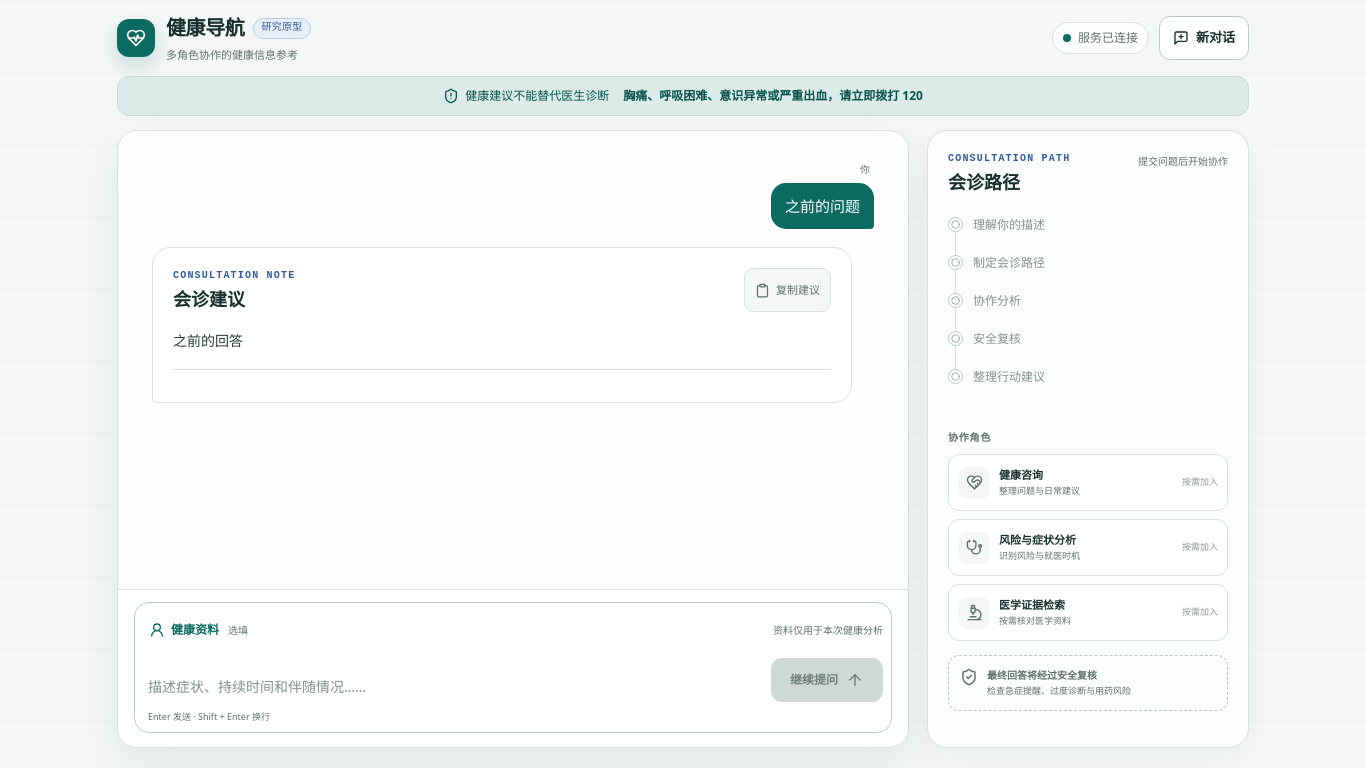
Test case: health consultation entry › starts a new conversation and offers an immediate return
Expected: the text "之前的问题" is shown, [771, 182, 874, 229]
What coordinates should you click on to do the following:
click the button "新对话"
I would click on:
 (1204, 38)
Its box is [1159, 16, 1249, 60].
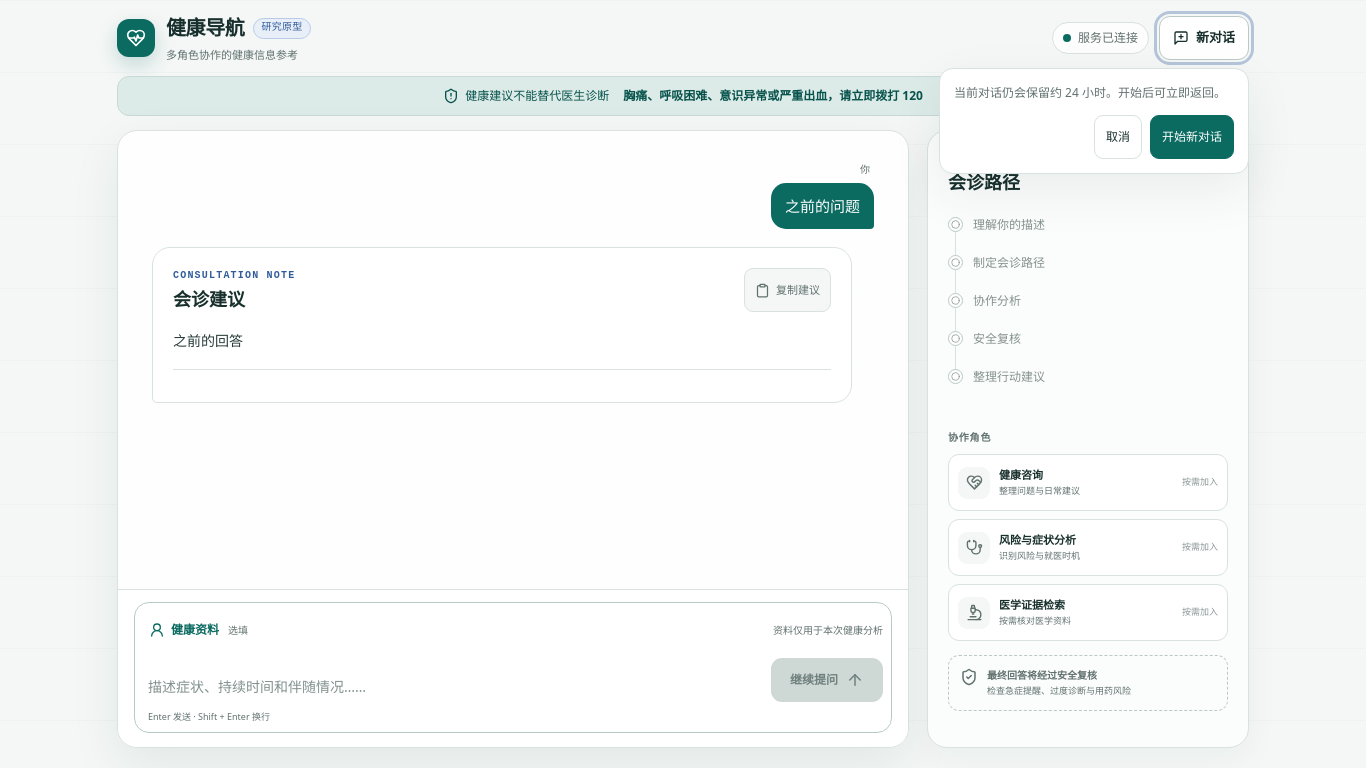
What coordinates should you click on to do the following:
click the button "开始新对话"
I would click on:
 (1192, 137)
Its box is [1150, 115, 1234, 159].
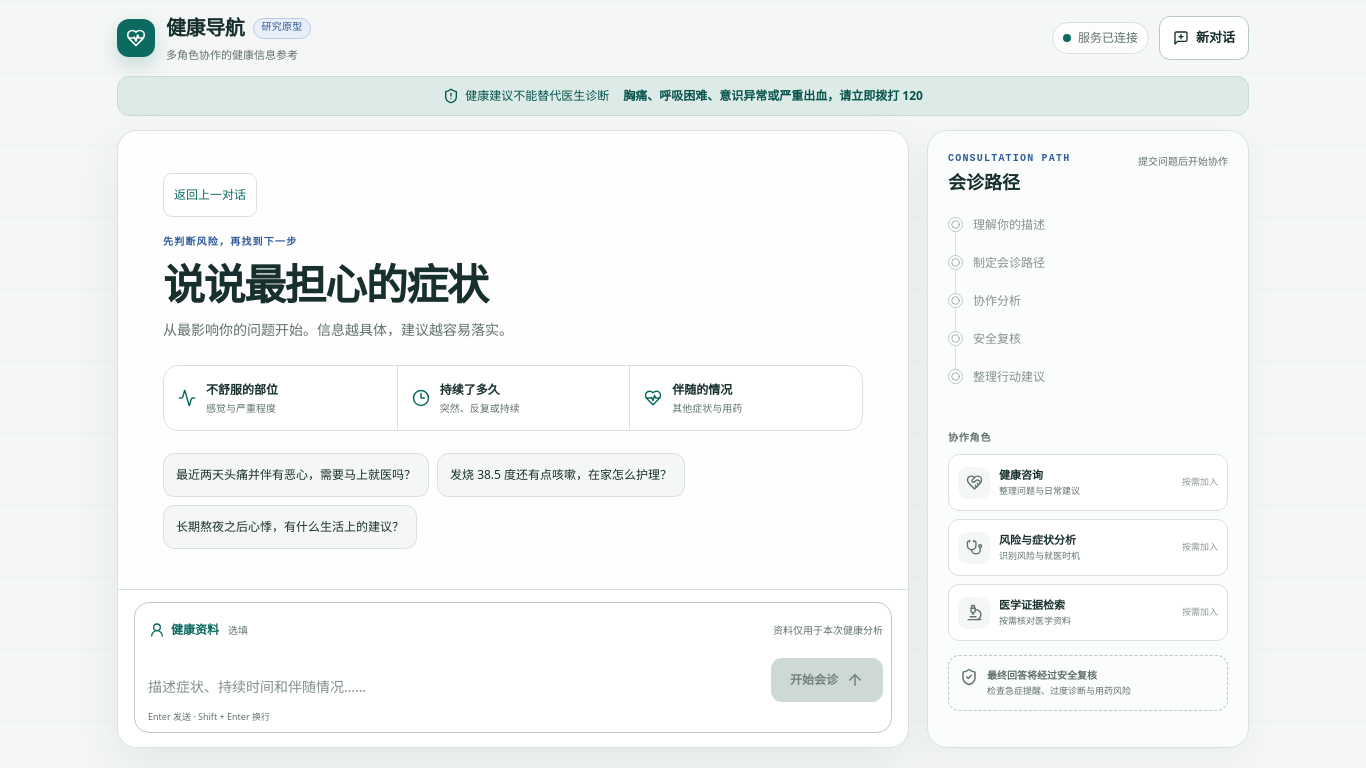
What coordinates should you click on to do the following:
click the button "返回上一对话"
I would click on:
 (210, 195)
Its box is [163, 173, 257, 217].
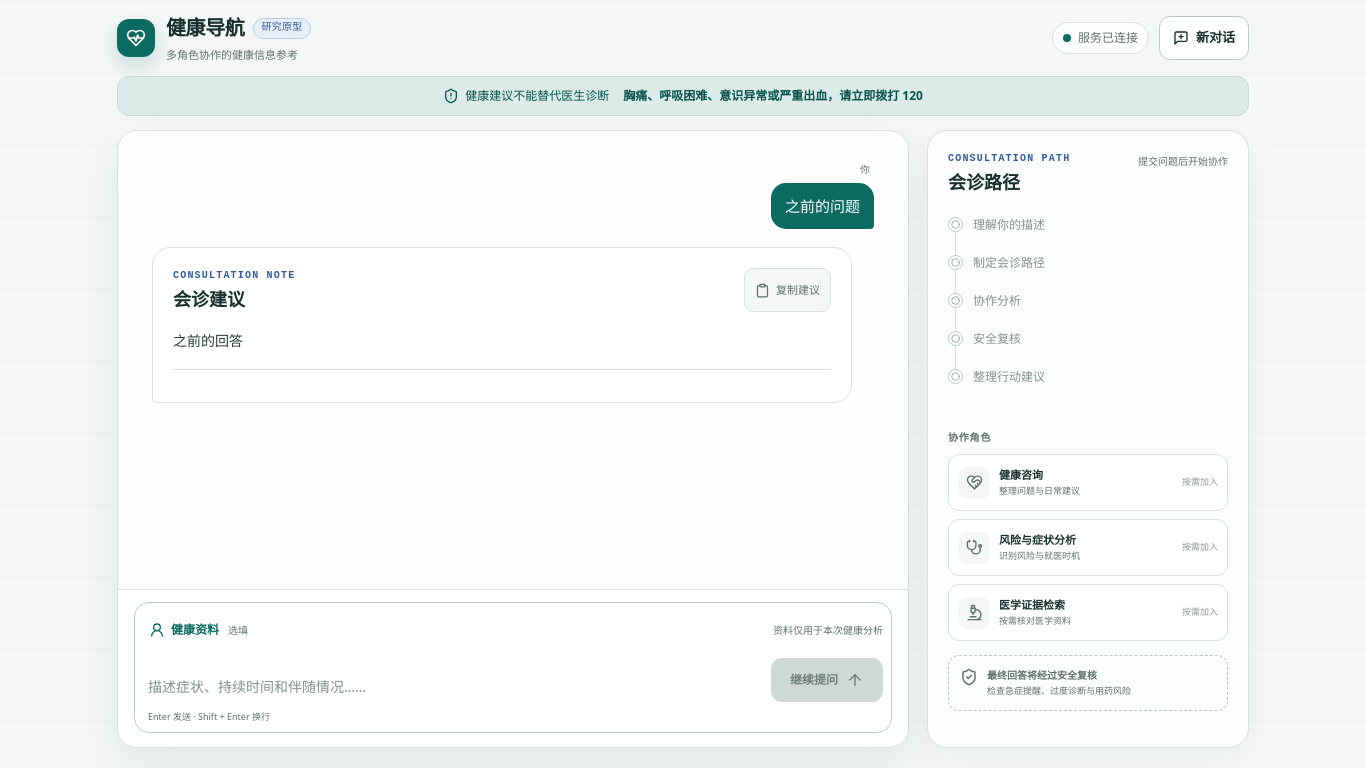
Expected: the text "之前的回答" is shown, [173, 331, 243, 350]
